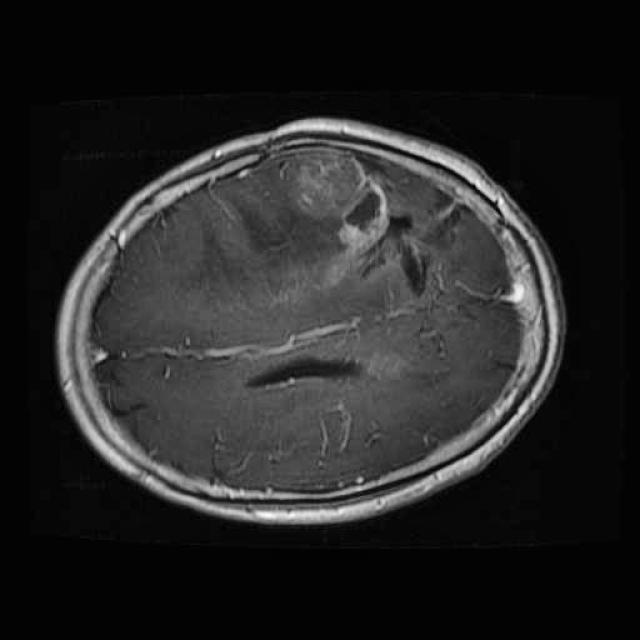Non-Tumor: (275, 138, 418, 272)
